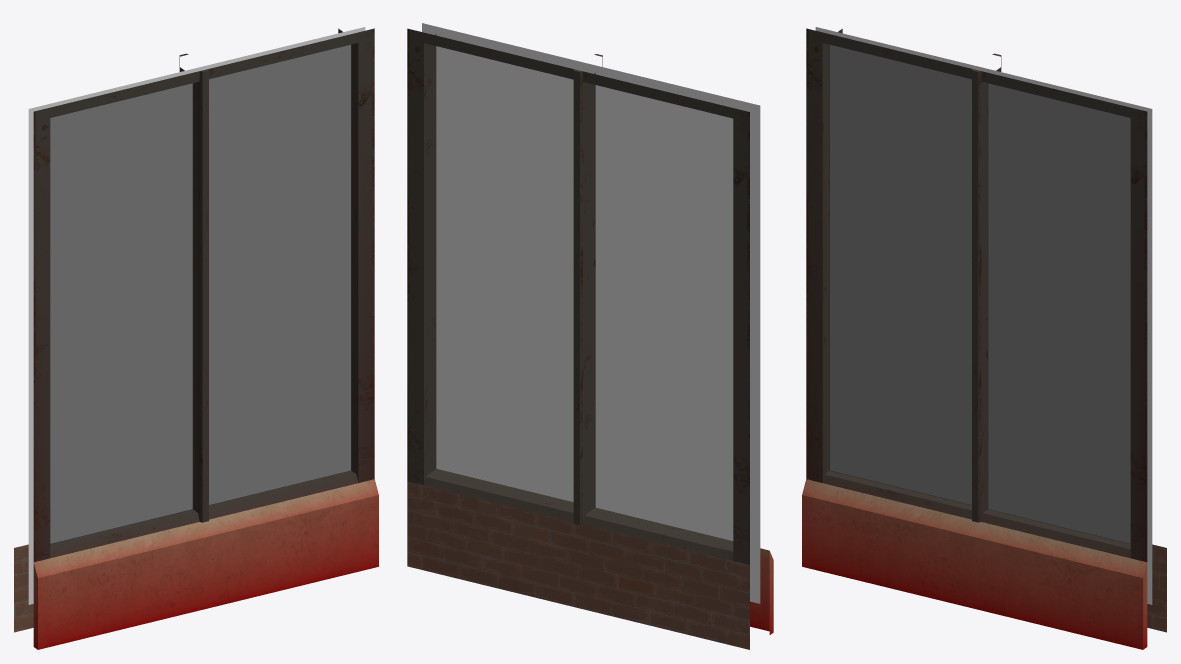
File: Metal_FirstFloor_Window.gltf
The picture shows the model from 3 angles, left to right: view 1: azimuth 30°, elevation 25°; view 2: azimuth 150°, elevation 25°; view 3: azimuth 330°, elevation 25°; orthographic projection.
Parts seen in each view (by area): view 1: Metal_FirstFloor_Window; view 2: Metal_FirstFloor_Window; view 3: Metal_FirstFloor_Window.
Part boxes in pixels (left/top/right/bottom): Metal_FirstFloor_Window: left=14, top=27, right=378, bottom=649; Metal_FirstFloor_Window: left=407, top=23, right=773, bottom=649; Metal_FirstFloor_Window: left=802, top=27, right=1166, bottom=649.
Bounding box in the file's own units: 2 × 3 × 0.2588.
Materials: 5 (3 with a texture image).
